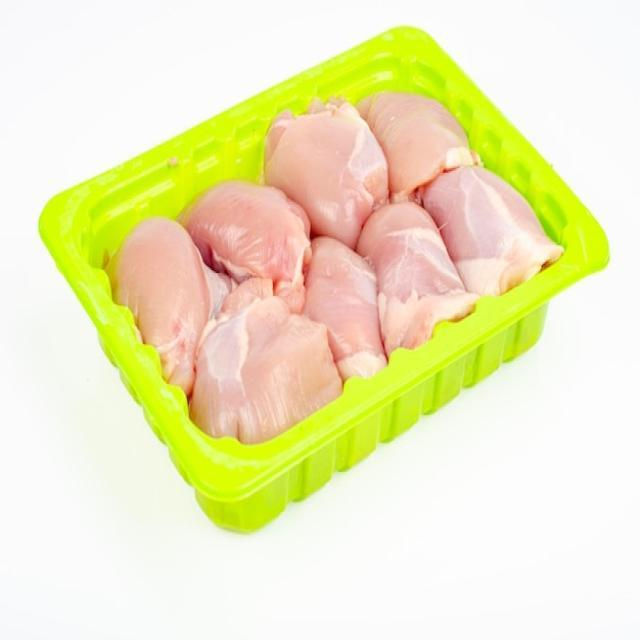breast: (100, 226, 198, 289)
